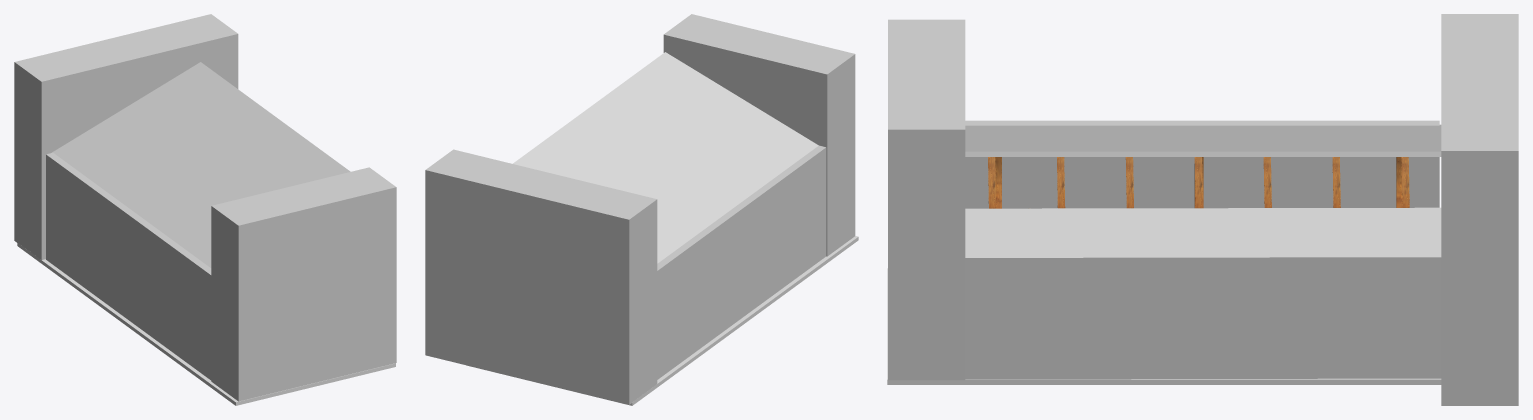
Rendered from AtelierSculpt.fbx.
3 renders of one model, left to right at view 1: azimuth 30°, elevation 25°; view 2: azimuth 150°, elevation 25°; view 3: azimuth 270°, elevation 25°, orthographic. The views are drawn at different scales.
Parts seen in each view (by area): view 1: MurPorte.001, Toit, MurCam, MurPoutre, Sol; view 2: MurCam, Toit, MurPoutre, MurPorte.001, Sol; view 3: MurPenché, MurCam, MurPorte.001, MurPoutre, Toit, Sol, Cube, Poutres.
Part boxes in pixels (left/top/right/bottom): MurPorte.001: left=211, top=167, right=396, bottom=401; Toit: left=52, top=62, right=350, bottom=267; MurCam: left=14, top=14, right=238, bottom=259; MurPoutre: left=46, top=152, right=211, bottom=380; Sol: left=17, top=242, right=395, bottom=405; MurCam: left=425, top=149, right=657, bottom=404; Toit: left=513, top=52, right=818, bottom=263; MurPoutre: left=657, top=145, right=826, bottom=379; MurPorte.001: left=663, top=14, right=855, bottom=256; Sol: left=466, top=236, right=858, bottom=405; MurPenché: left=965, top=207, right=1441, bottom=379; MurCam: left=1441, top=14, right=1518, bottom=405; MurPorte.001: left=888, top=19, right=965, bottom=380; MurPoutre: left=965, top=120, right=1439, bottom=208; Toit: left=965, top=124, right=1441, bottom=156; Sol: left=887, top=268, right=1441, bottom=384; Cube: left=988, top=157, right=1409, bottom=208; Poutres: left=995, top=157, right=1402, bottom=208.
Bounding box in the file's own units: 838 × 740 × 1632.
